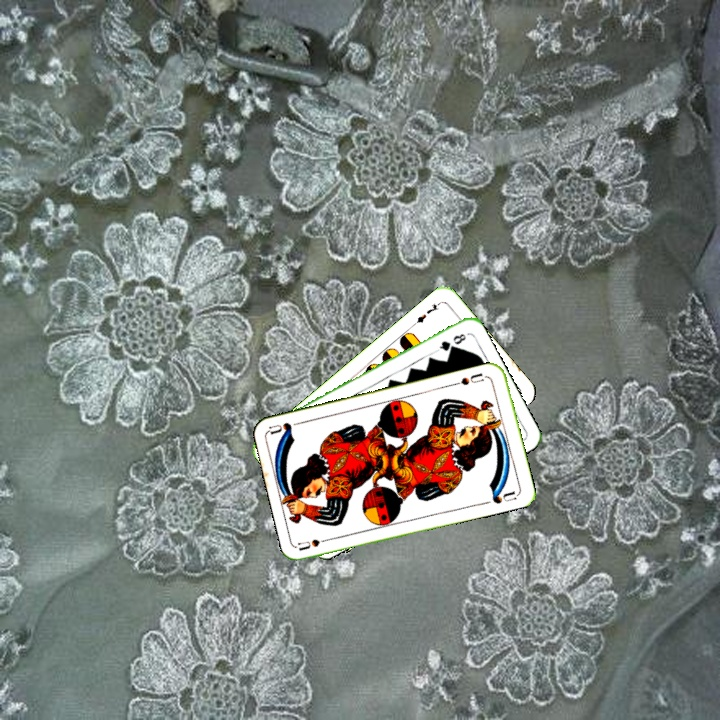E7: (409, 298, 444, 328)
G8: (432, 329, 469, 354)
SU: (295, 533, 336, 553), (450, 369, 490, 388)
